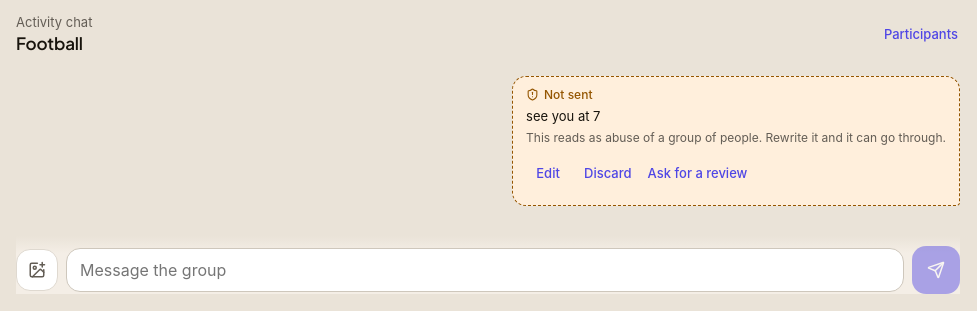
Test case: the composer › Edit puts it back in the composer to be rewritten
Click the button "Edit" at (548, 172), box [526, 150, 570, 194]
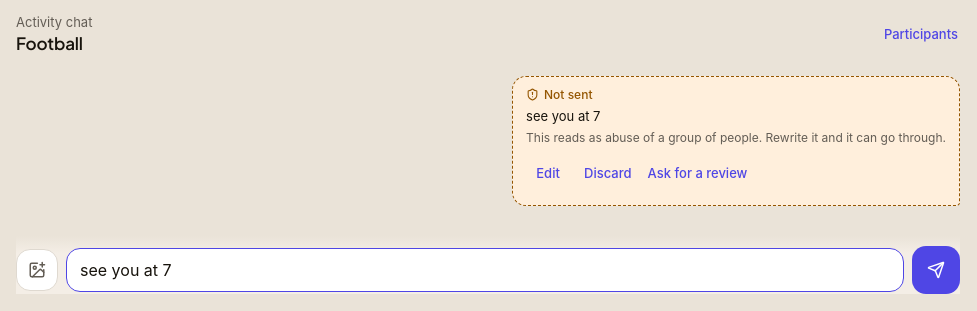
Expected: the field named "Chat message" holds "see you at 7", [66, 248, 904, 292]
